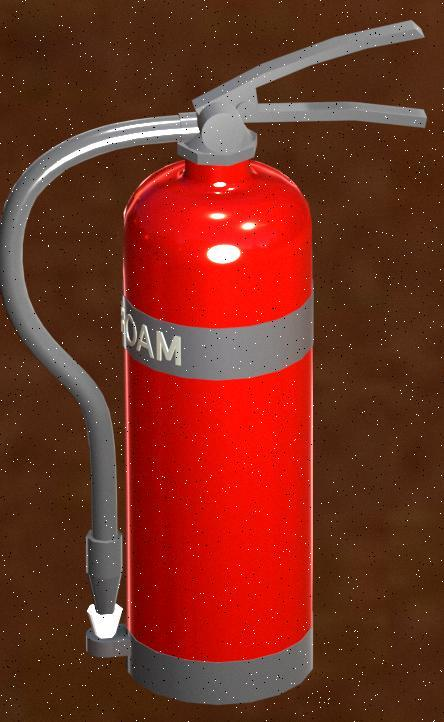Fire Extinguisher: (10, 20, 444, 720)
